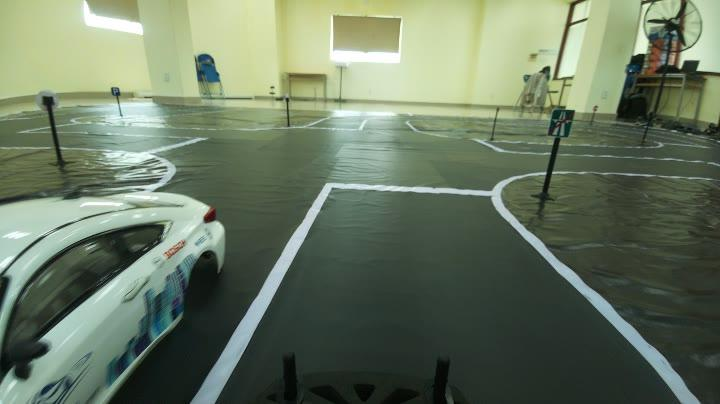car: (4, 169, 226, 389)
highway_exit: (548, 98, 574, 144)
